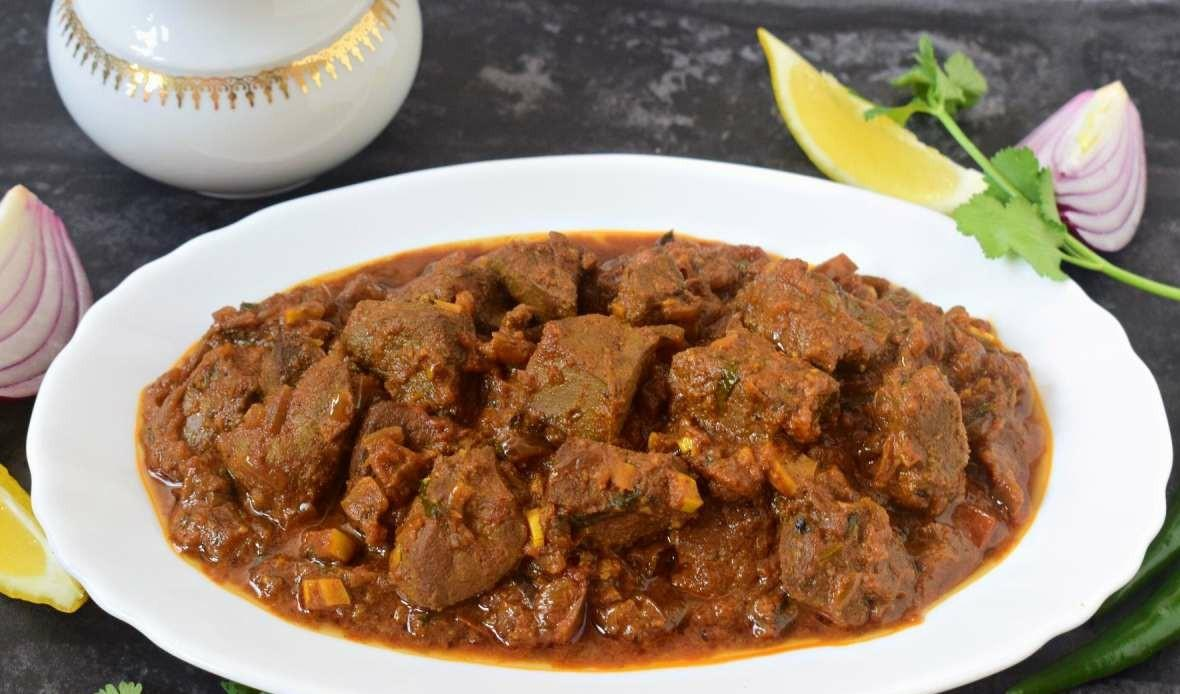MuttonCurry: (142, 233, 1046, 664)
